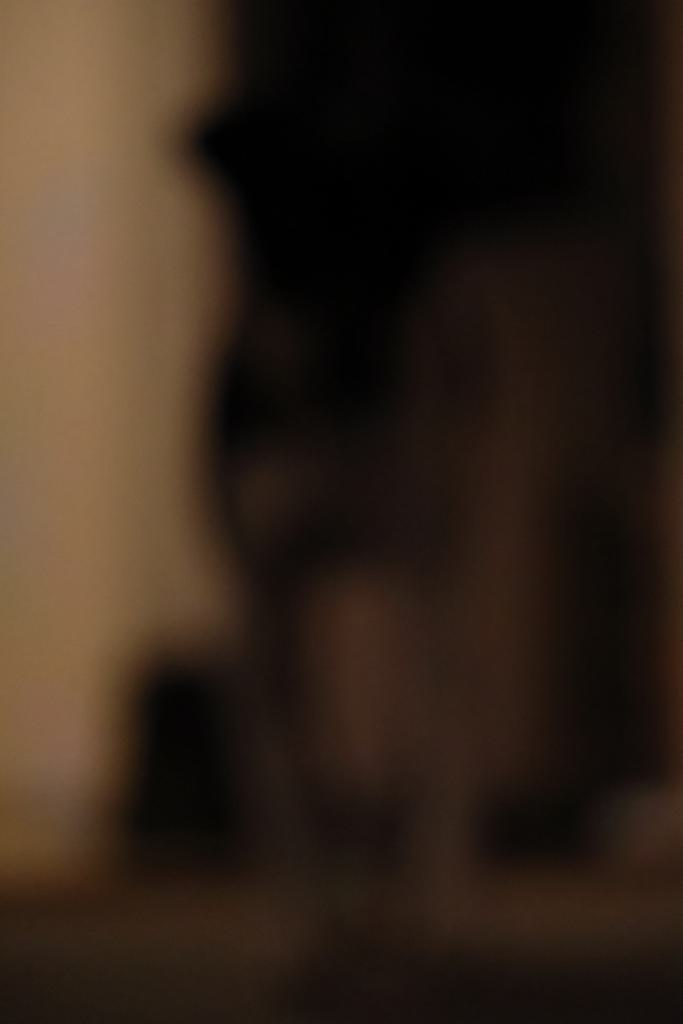Dog: (163, 0, 558, 989)
